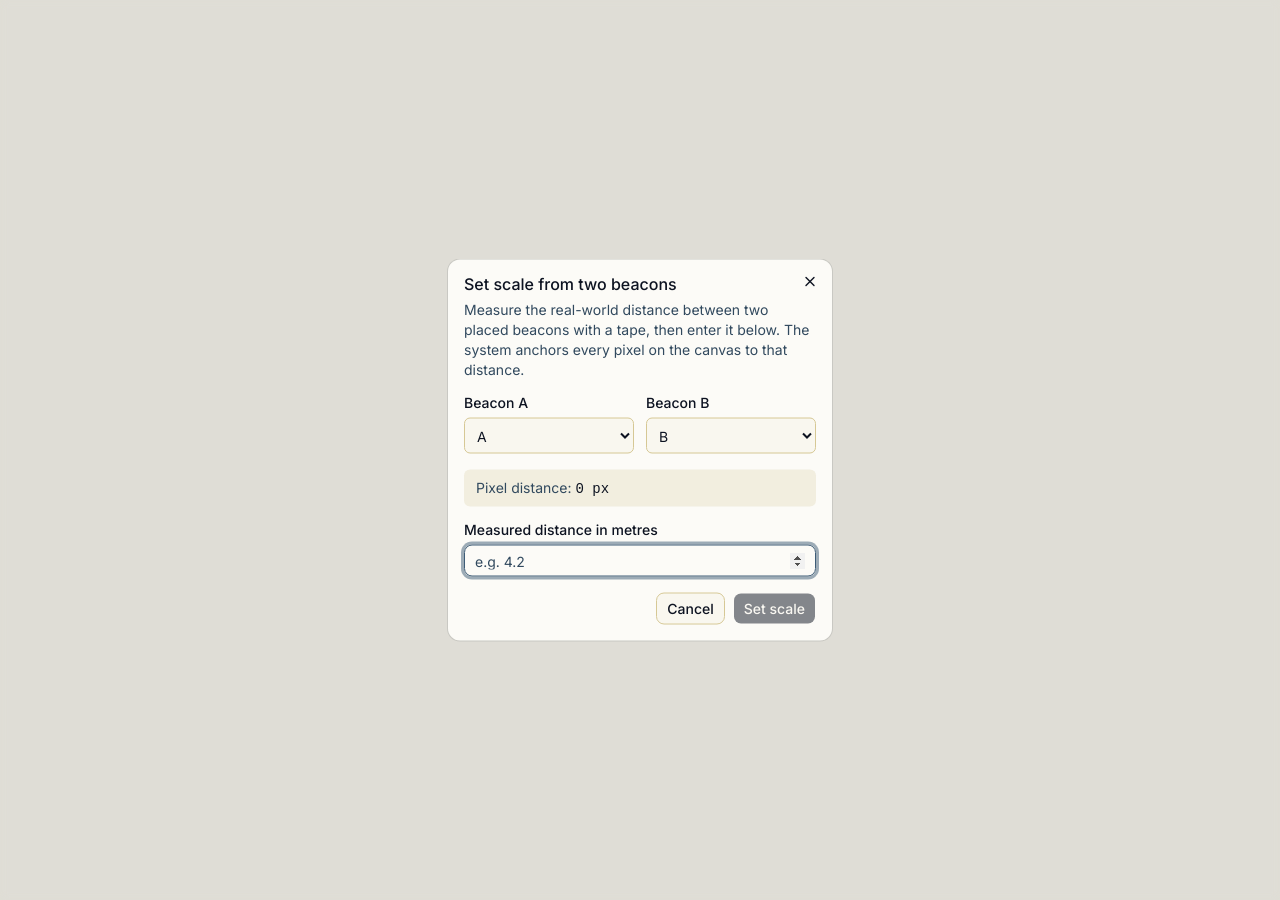
Test: ScaleFromBeaconsDialog › rejects coincident beacons with an actionable error and does not confirm
The image size is (1280, 900).
Type "5" into the number field labelled "Measured distance in metres". click: {"x": 640, "y": 560}
box: x1=464 y1=544 x2=816 y2=576
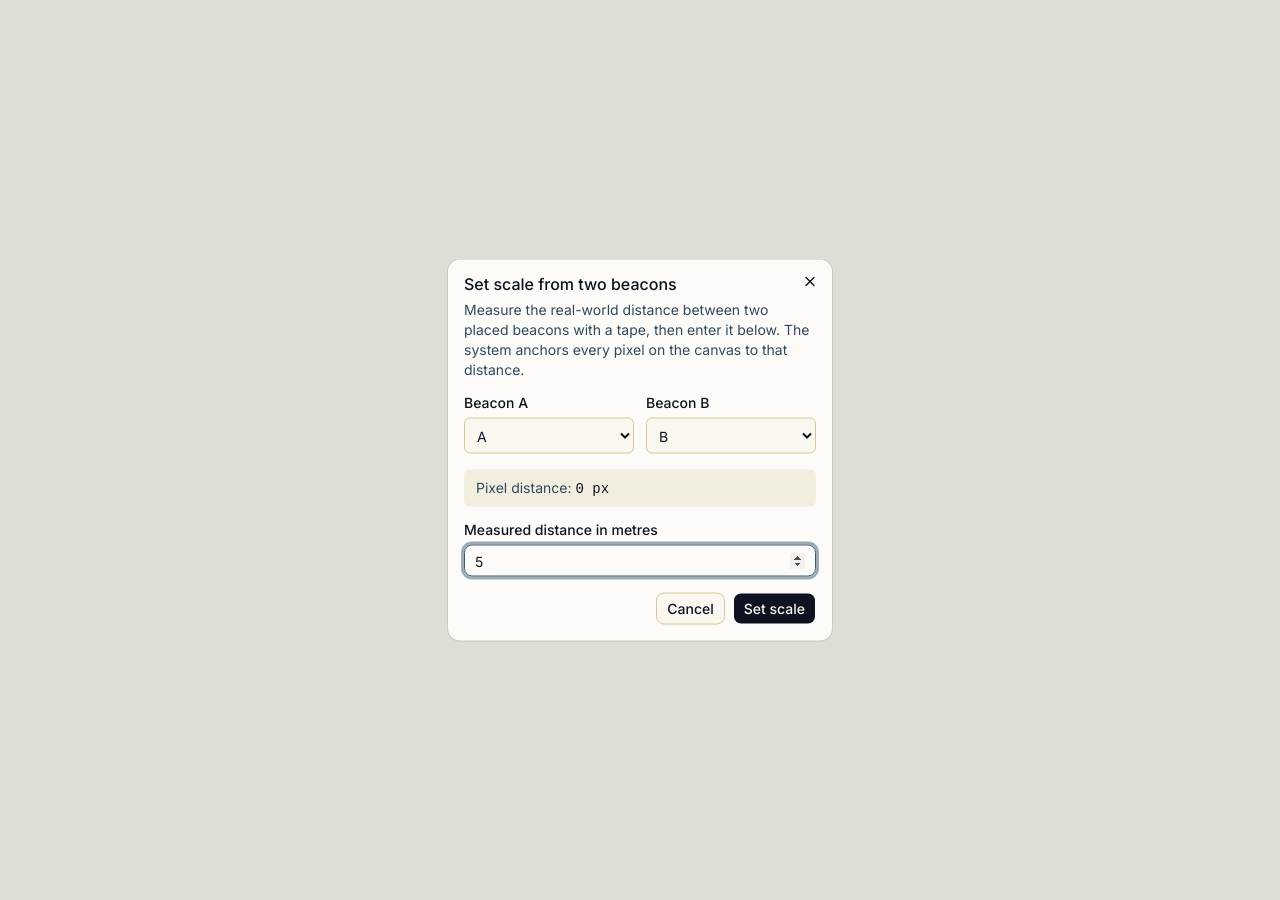
Click the button "Set scale". click: {"x": 774, "y": 608}
box: x1=733 y1=592 x2=816 y2=624
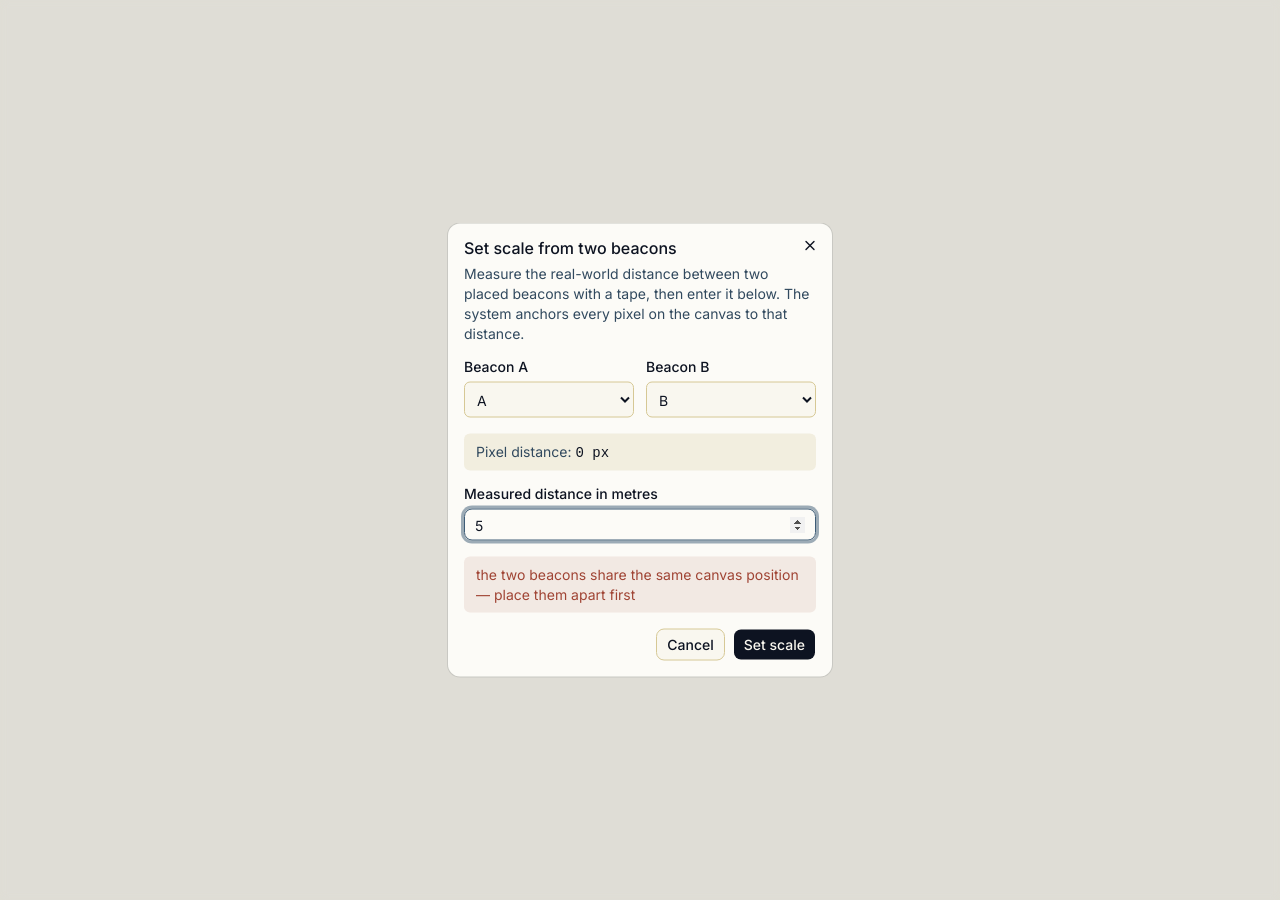
Expected: the text "the two beacons share the same canvas position" is shown, x1=476 y1=566 x2=799 y2=602
